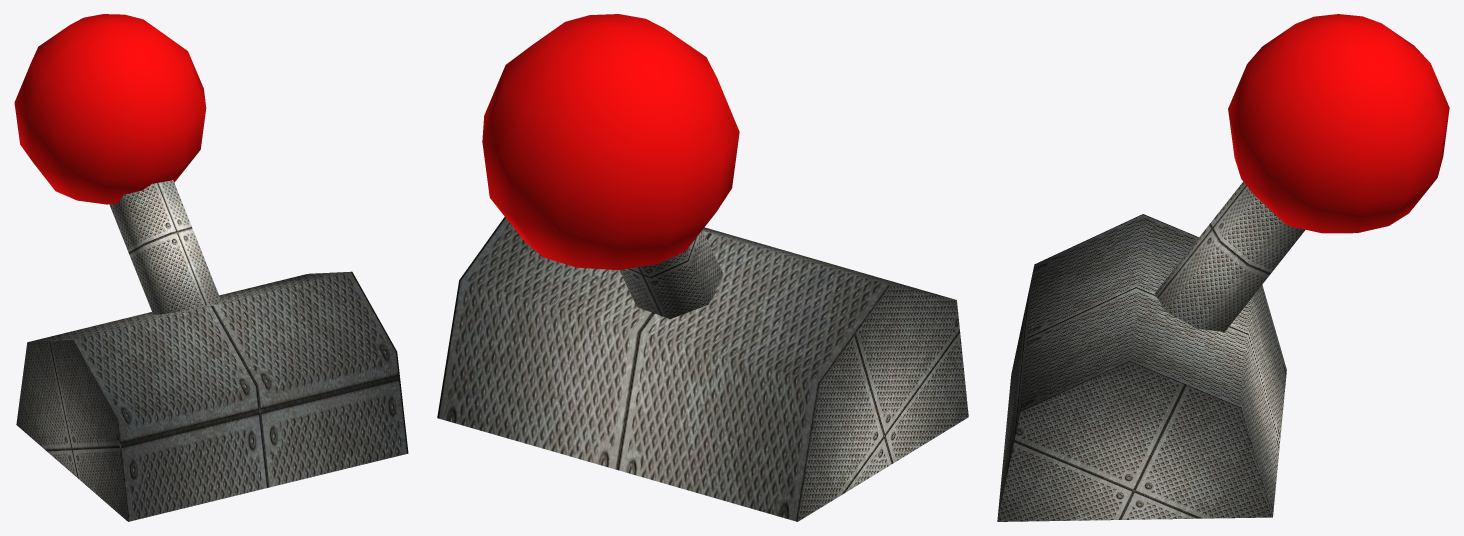
File: controller.FBX
3 renders of one model, left to right at view 1: azimuth 30°, elevation 25°; view 2: azimuth 150°, elevation 25°; view 3: azimuth 270°, elevation 25°, orthographic. The views are drawn at different scales.
Parts seen in each view (by area): view 1: Sphere001; view 2: Sphere001; view 3: Sphere001.
Boxes of the visible parts, <box> form: Sphere001: <box>14,14,408,521</box>; Sphere001: <box>437,14,968,521</box>; Sphere001: <box>997,14,1449,521</box>.
Size of the model in its own units: 7.38 by 8.85 by 9.08.
